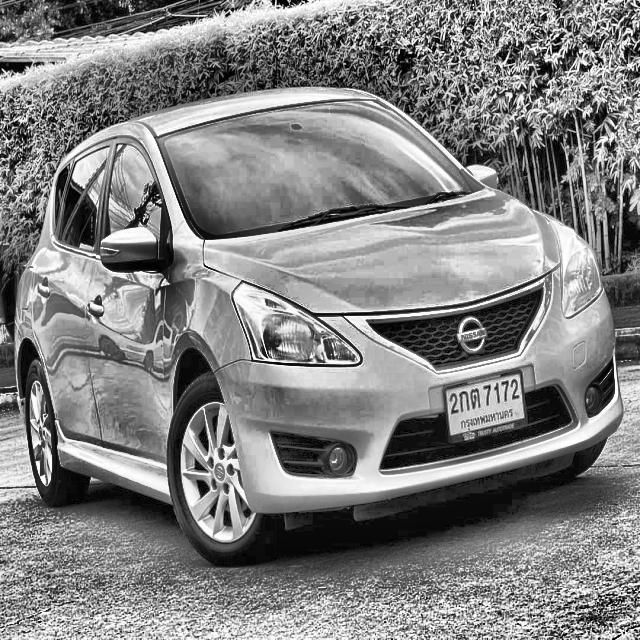license-plate: (440, 365, 530, 449)
